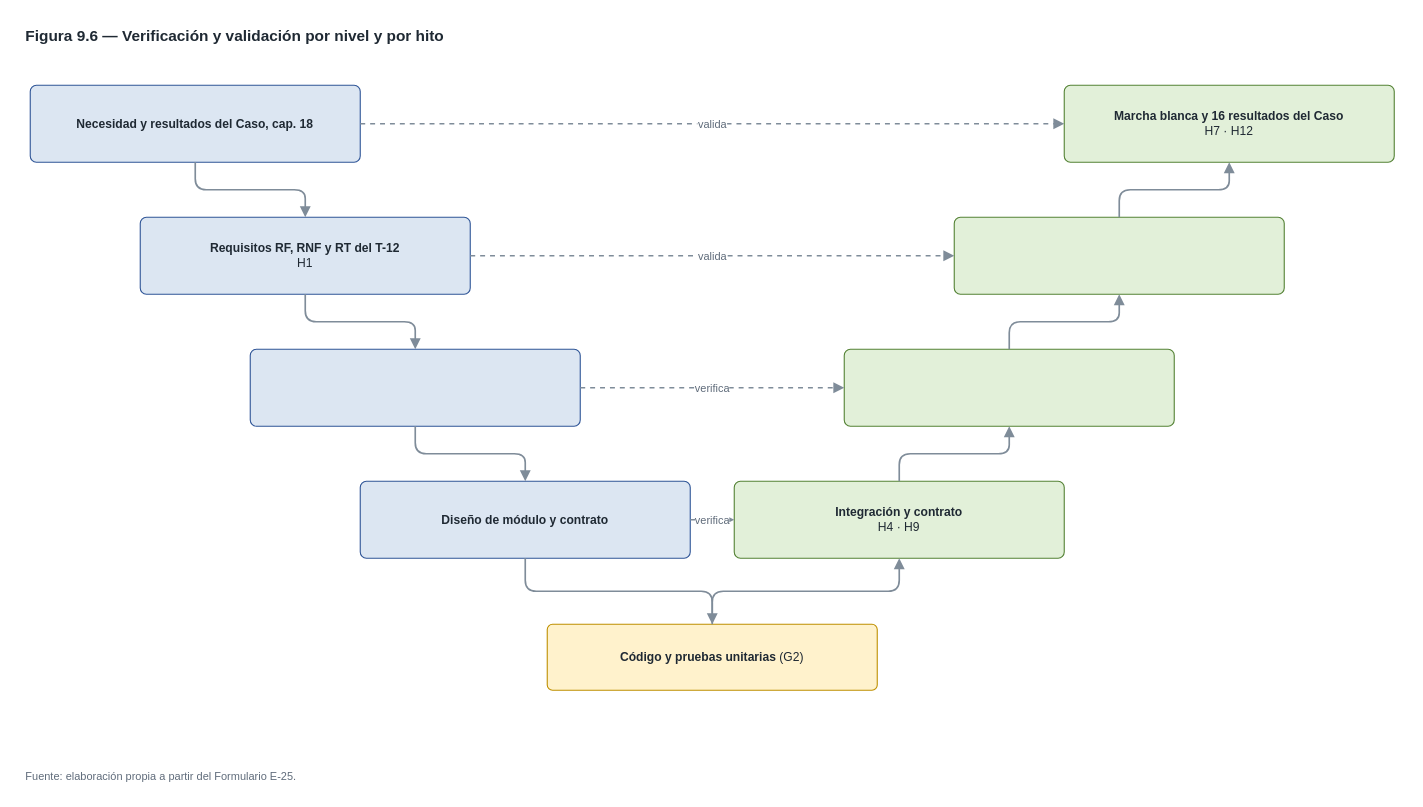
Image size: 1423x807. Some labels were removed from this diagram. Each missing label, with the centre of its shape:
"Aceptación de usuario H5 · H10" belongs at point (1118, 255).
"Arquitectura y datos (SD4, SD5) H2" belongs at point (414, 387).
"Sistema: carga, resiliencia y DR H5 · H10" belongs at point (1008, 387).
